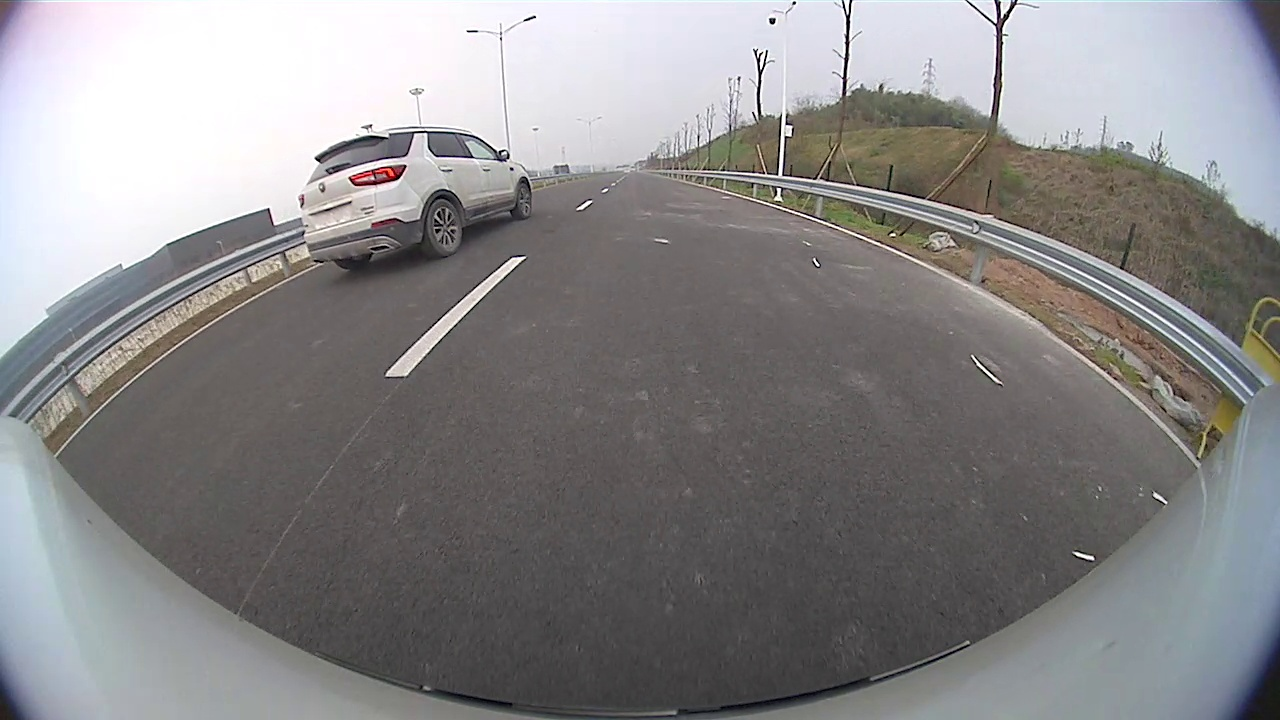car: (298, 122, 535, 274)
front: (515, 182, 533, 221)
rear: (425, 196, 463, 259)
